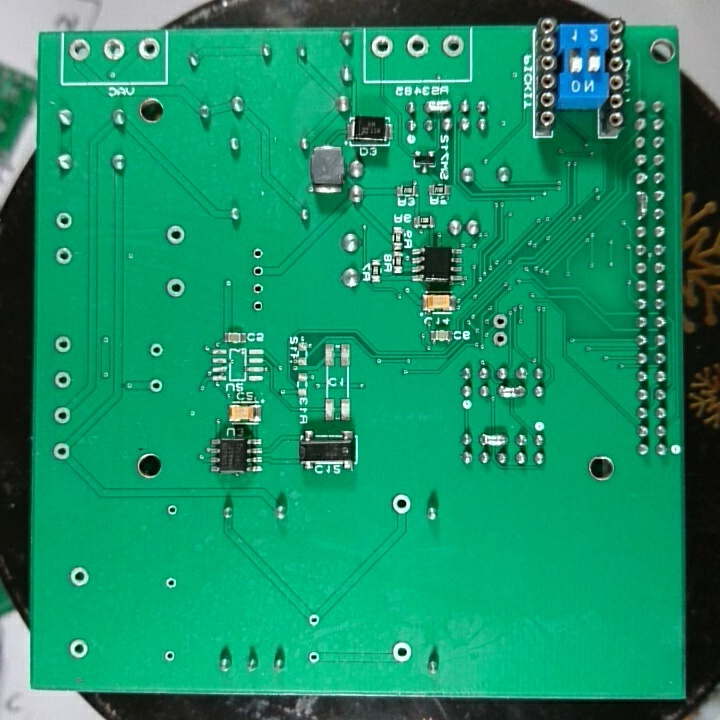F: (67, 36, 94, 66), (402, 33, 430, 60), (66, 563, 93, 591), (137, 35, 162, 65), (440, 32, 466, 60), (369, 33, 394, 62), (101, 37, 126, 64), (65, 637, 90, 662), (51, 244, 75, 269), (51, 440, 74, 466), (389, 492, 412, 518), (52, 209, 76, 233), (163, 275, 187, 299), (164, 224, 189, 246), (391, 638, 412, 664), (51, 333, 74, 356), (51, 404, 74, 426), (52, 368, 74, 390), (489, 329, 512, 350), (489, 311, 511, 331), (248, 296, 266, 317), (148, 375, 165, 397), (305, 611, 323, 631), (163, 500, 180, 520), (163, 573, 179, 594), (148, 340, 165, 359), (249, 245, 268, 262), (250, 280, 267, 298), (250, 264, 268, 279), (306, 648, 321, 666), (162, 648, 177, 665)
P: (477, 430, 513, 450), (495, 382, 528, 401), (633, 188, 650, 224), (422, 98, 454, 115)
